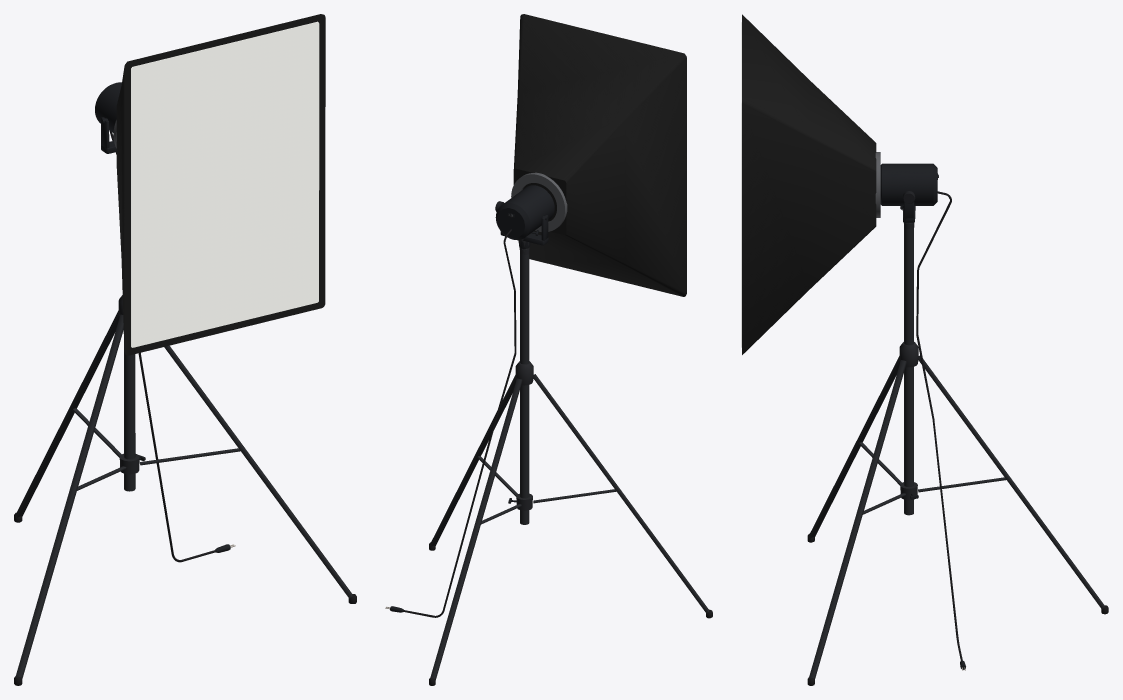
Rendered from photo_softbox.glb.
The picture shows the model from 3 angles, left to right: view 1: azimuth 30°, elevation 25°; view 2: azimuth 150°, elevation 25°; view 3: azimuth 270°, elevation 25°; orthographic projection. The views are drawn at different scales.
Visible parts, largest first — view 1: Front diffuser, Light stand legs and braces, Softbox body, Lamp housing, Light stand feet; view 2: Softbox body, Light stand legs and braces, Lamp housing, Light stand feet, Speed ring, Light stand castings and locks; view 3: Softbox body, Light stand legs and braces, Lamp housing, Light stand feet, Light stand castings and locks.
Boxes of the visible parts, left/top/right/bottom form: Front diffuser: left=131, top=21, right=319, bottom=347; Light stand legs and braces: left=15, top=310, right=352, bottom=678; Softbox body: left=116, top=14, right=325, bottom=355; Lamp housing: left=95, top=82, right=230, bottom=552; Light stand feet: left=14, top=130, right=356, bottom=685; Softbox body: left=513, top=14, right=686, bottom=296; Light stand legs and braces: left=430, top=248, right=708, bottom=679; Lamp housing: left=390, top=185, right=554, bottom=612; Light stand feet: left=403, top=229, right=712, bottom=685; Speed ring: left=511, top=172, right=567, bottom=231; Light stand castings and locks: left=515, top=233, right=533, bottom=510; Softbox body: left=742, top=14, right=876, bottom=354; Light stand legs and braces: left=809, top=222, right=1104, bottom=678; Lamp housing: left=880, top=163, right=965, bottom=669; Light stand feet: left=807, top=191, right=1108, bottom=685; Light stand castings and locks: left=899, top=206, right=918, bottom=500.
Size of the model in its own units: 0.8494 by 1.51 by 0.9.
Materials: 12 (12 with a texture image).
